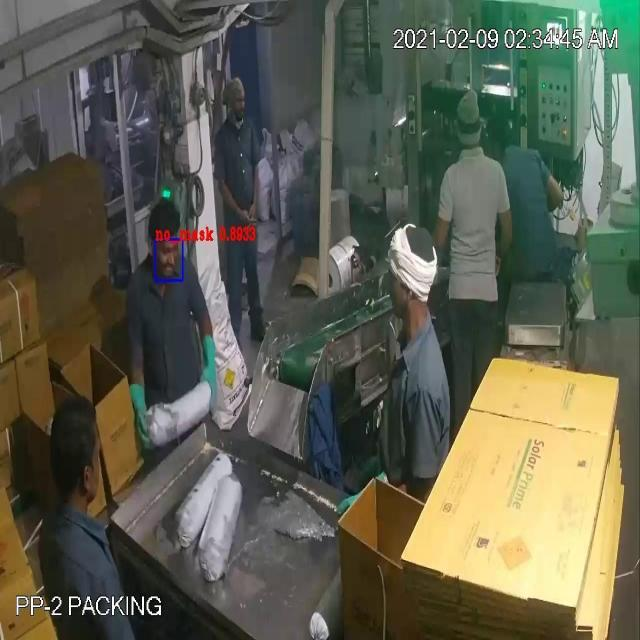Gloves: (18, 50, 255, 416)
